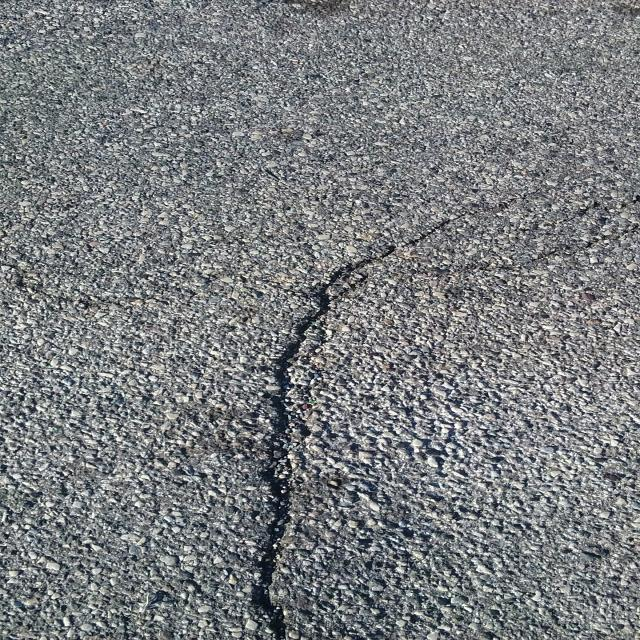Longitudial: (178, 179, 496, 640)
